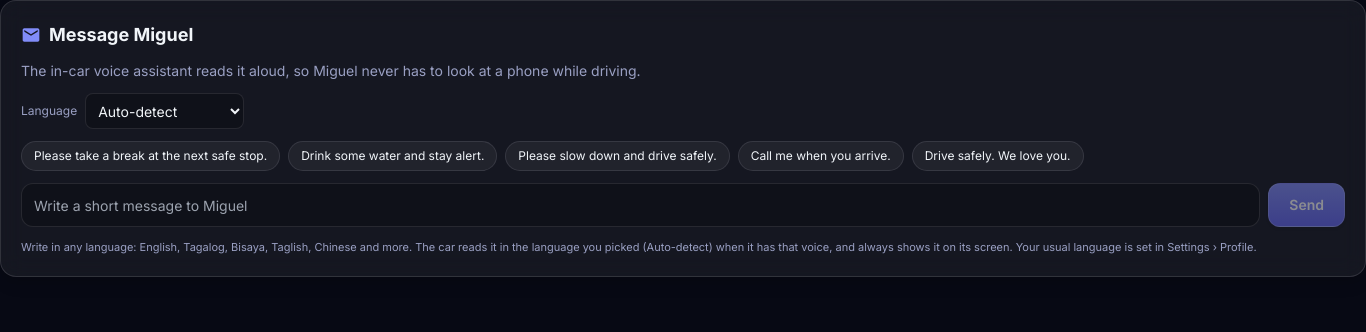
messages in other languages › quick reminders in Tagalog, Bisaya and Chinese
Select "Filipino (Tagalog)" in the dropdown named "Message language": (165,111) [85,93,244,129]
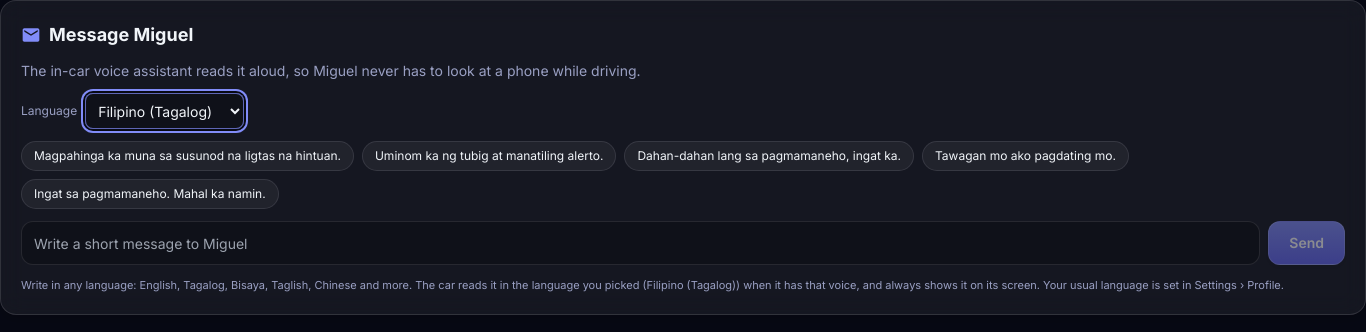
Click the button "Tawagan mo ako pagdating mo.": (1025,156) [922,141,1129,171]
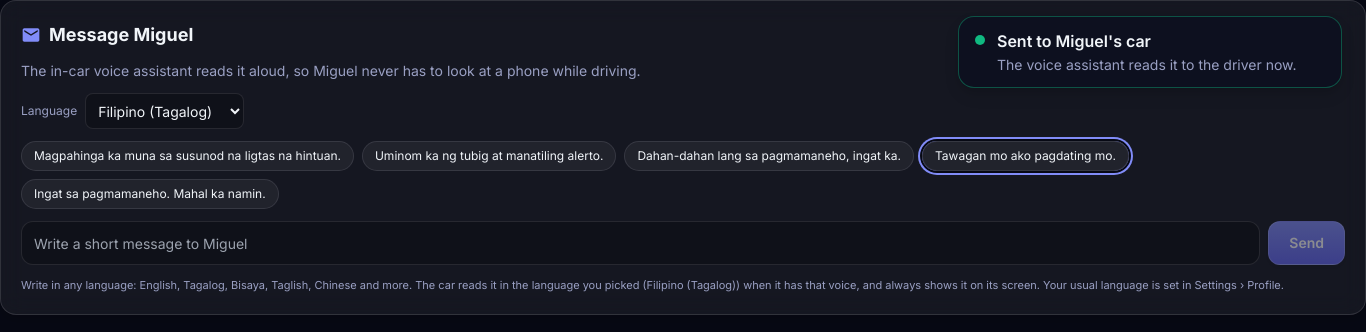
Select "Bisaya (Cebuano)" in the dropdown named "Message language": (165,111) [85,93,244,129]
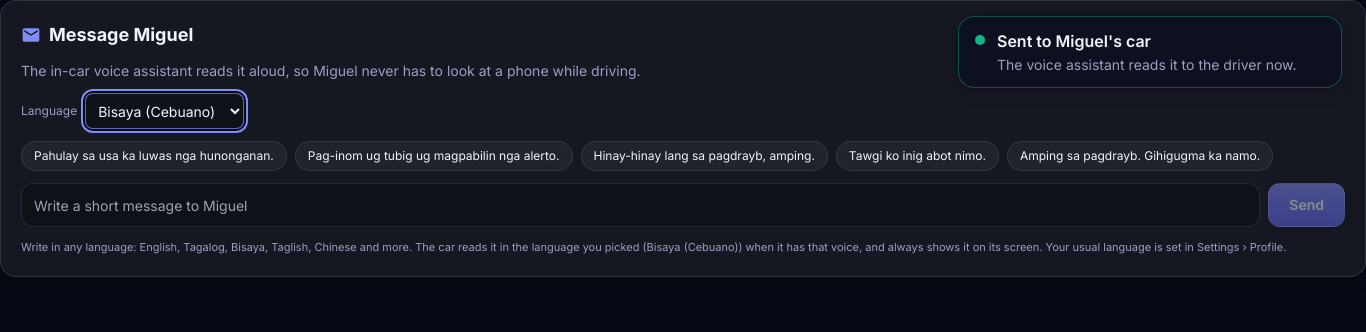
Expected: the button "Tawgi ko inig abot nimo." is shown, [836,141,999,171]
Select "中文 (Chinese)" in the dropdown named "Message language": (165,111) [85,93,244,129]
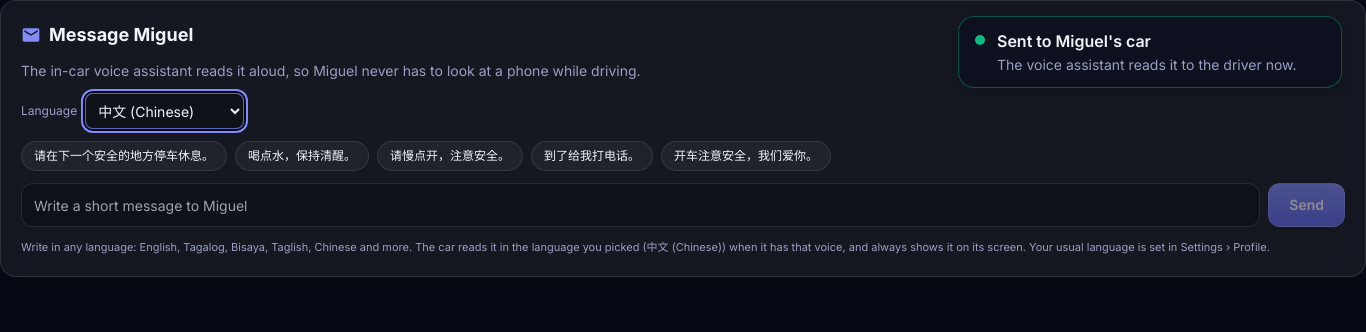
Expected: the text with test id "language-hint" shows "any language", [21,240,646,254]
Expected: the button "到了给我打电话。" is shown, [531,141,653,171]
